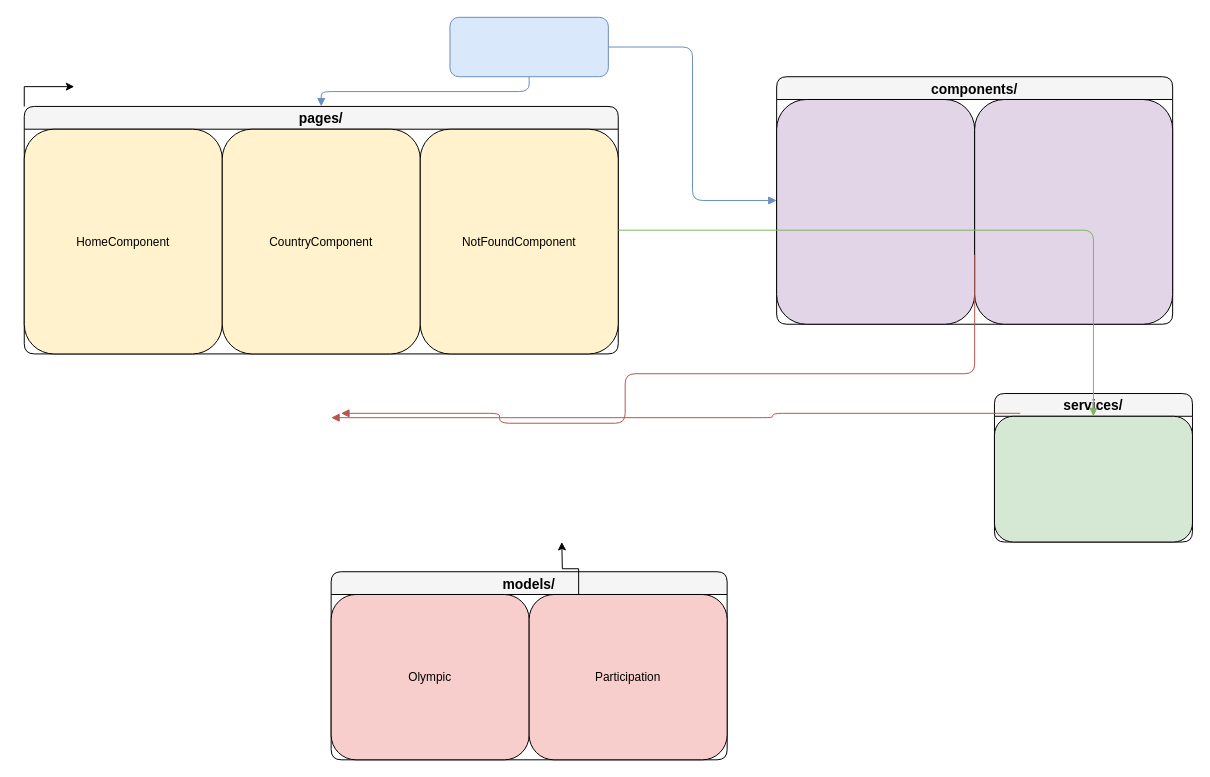
This 1210x777 diagram has some shape labels left out. Here are the shapes that lost their labels. From the top down, the centre of each, then its label:
At (528,46): "AppModule".
At (875,211): "MedalChartComponent".
At (1073,211): "CountryCardComponent".
At (1092,478): "DataService (Singleton)".
